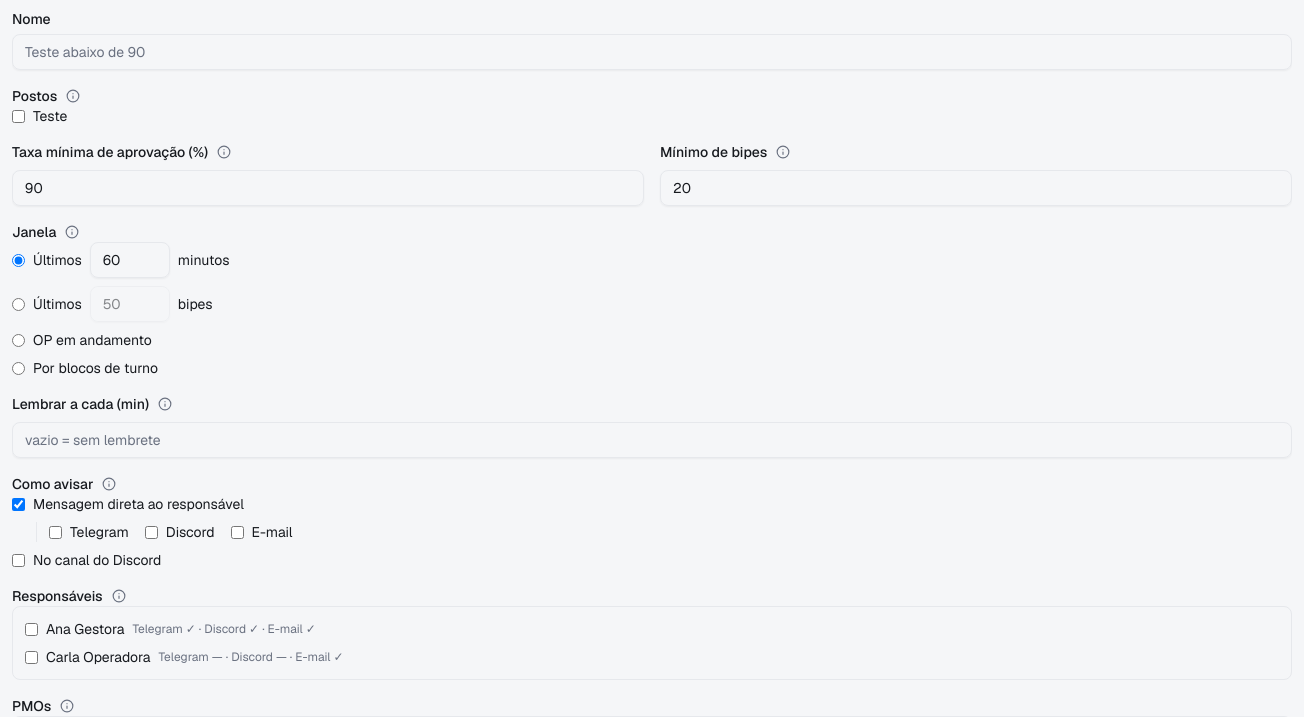
Test: RegraForm — taxa de aprovação › avisa quem não recebe pelo canal escolhido
The image size is (1304, 717).
Click the checkbox labelled "Telegram": [56, 532] box [49, 526, 62, 538]
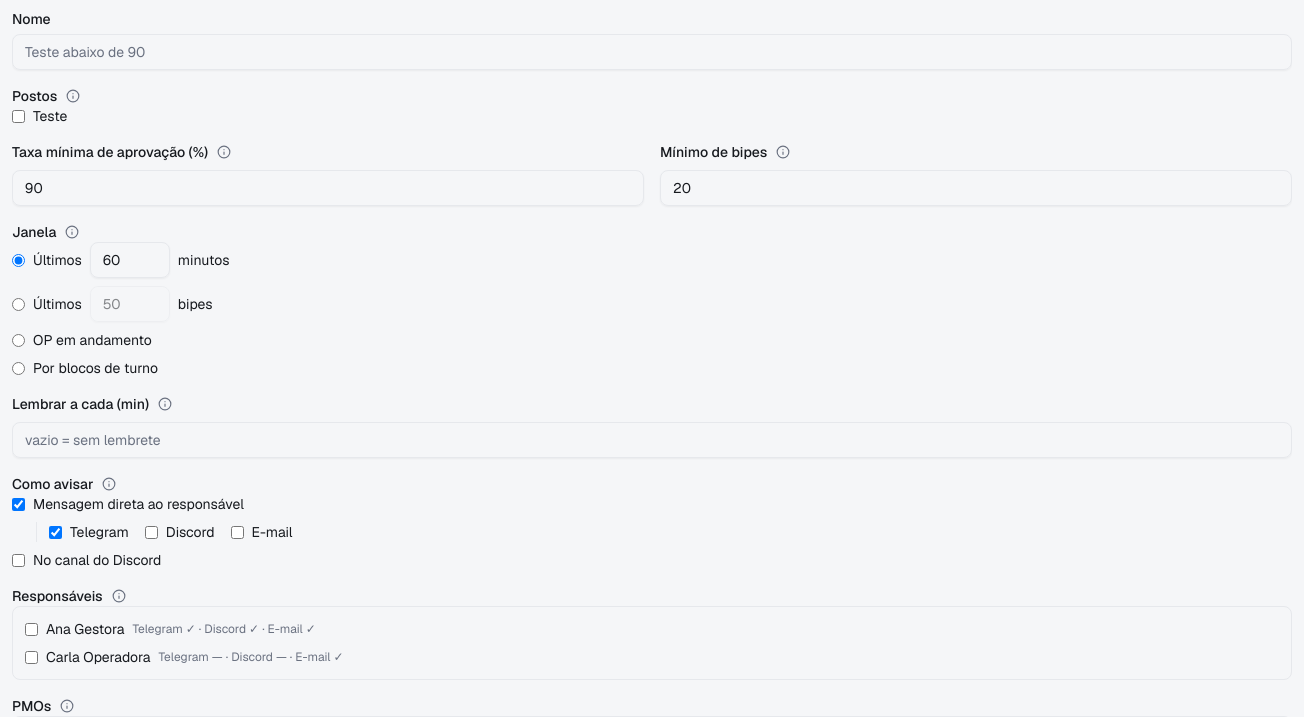
Click the checkbox labelled "Carla Operadora": [32, 657] box [25, 650, 38, 664]
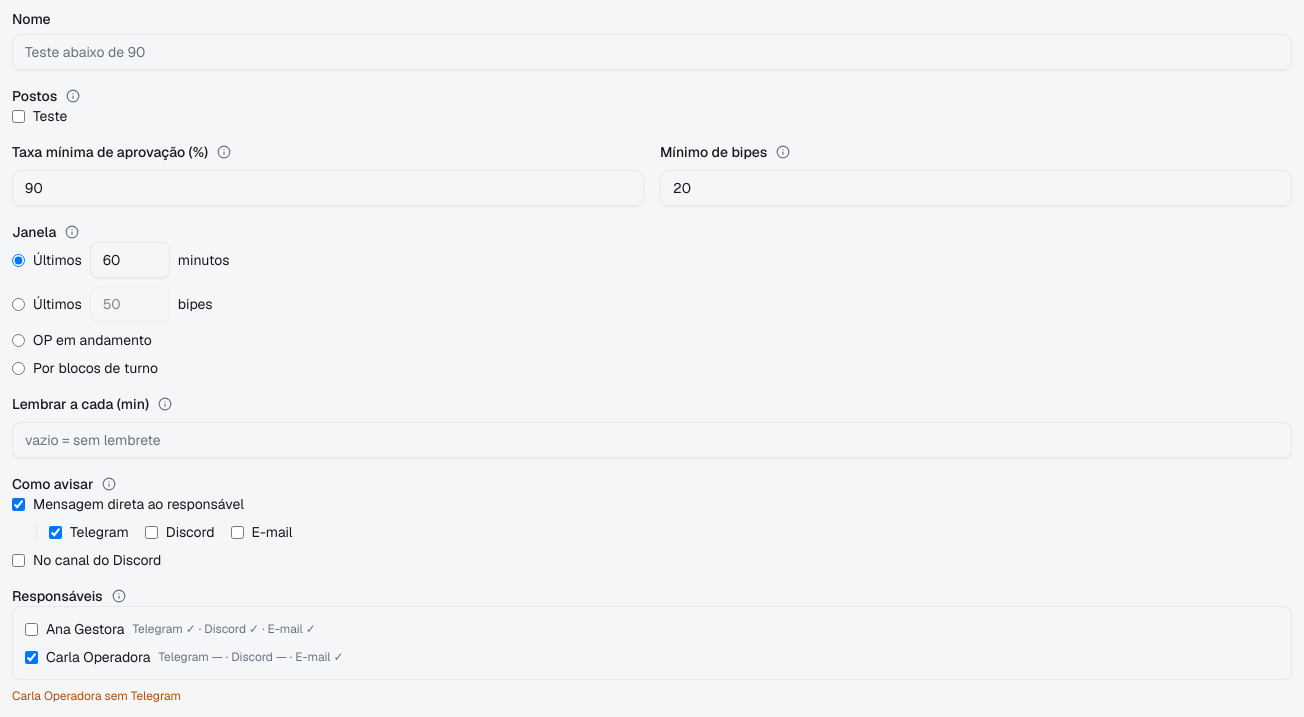
Result: the list item "Carla Operadora sem Telegram" is shown at [12, 688, 181, 704]
